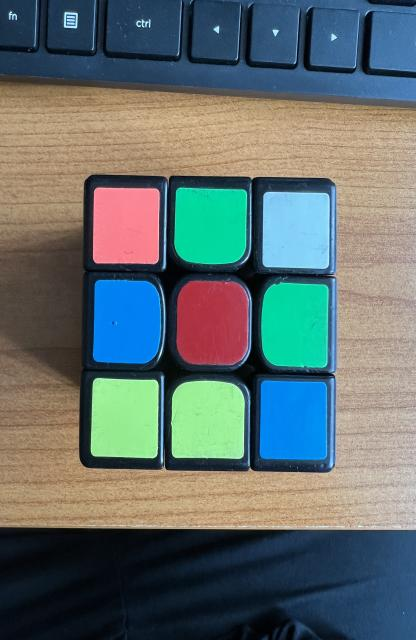Blue: (93, 280, 161, 364), (259, 380, 327, 460)
Green: (261, 282, 328, 368), (174, 188, 247, 264)
Orange: (93, 188, 159, 264)
Red: (177, 281, 249, 365)
White: (262, 191, 329, 269)
Yellow: (171, 380, 245, 459), (91, 378, 158, 459)
